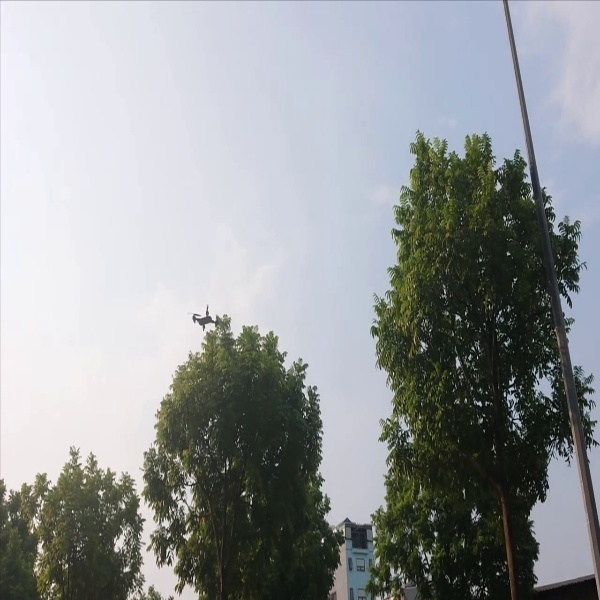drone: (187, 301, 222, 331)
